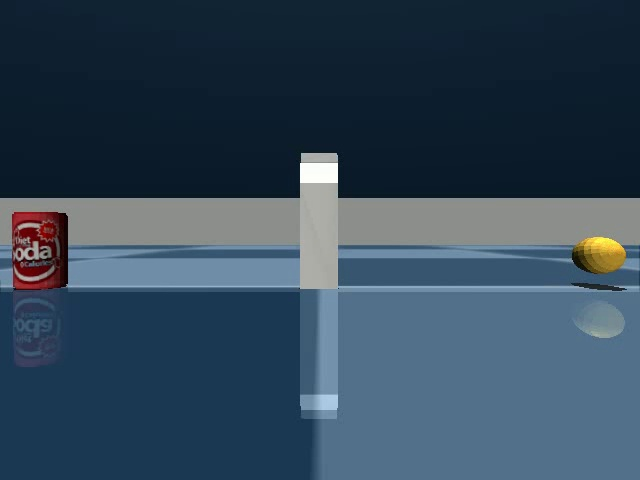can: (4, 205, 77, 302)
lemon: (567, 233, 629, 280)
milk: (290, 145, 347, 297)
